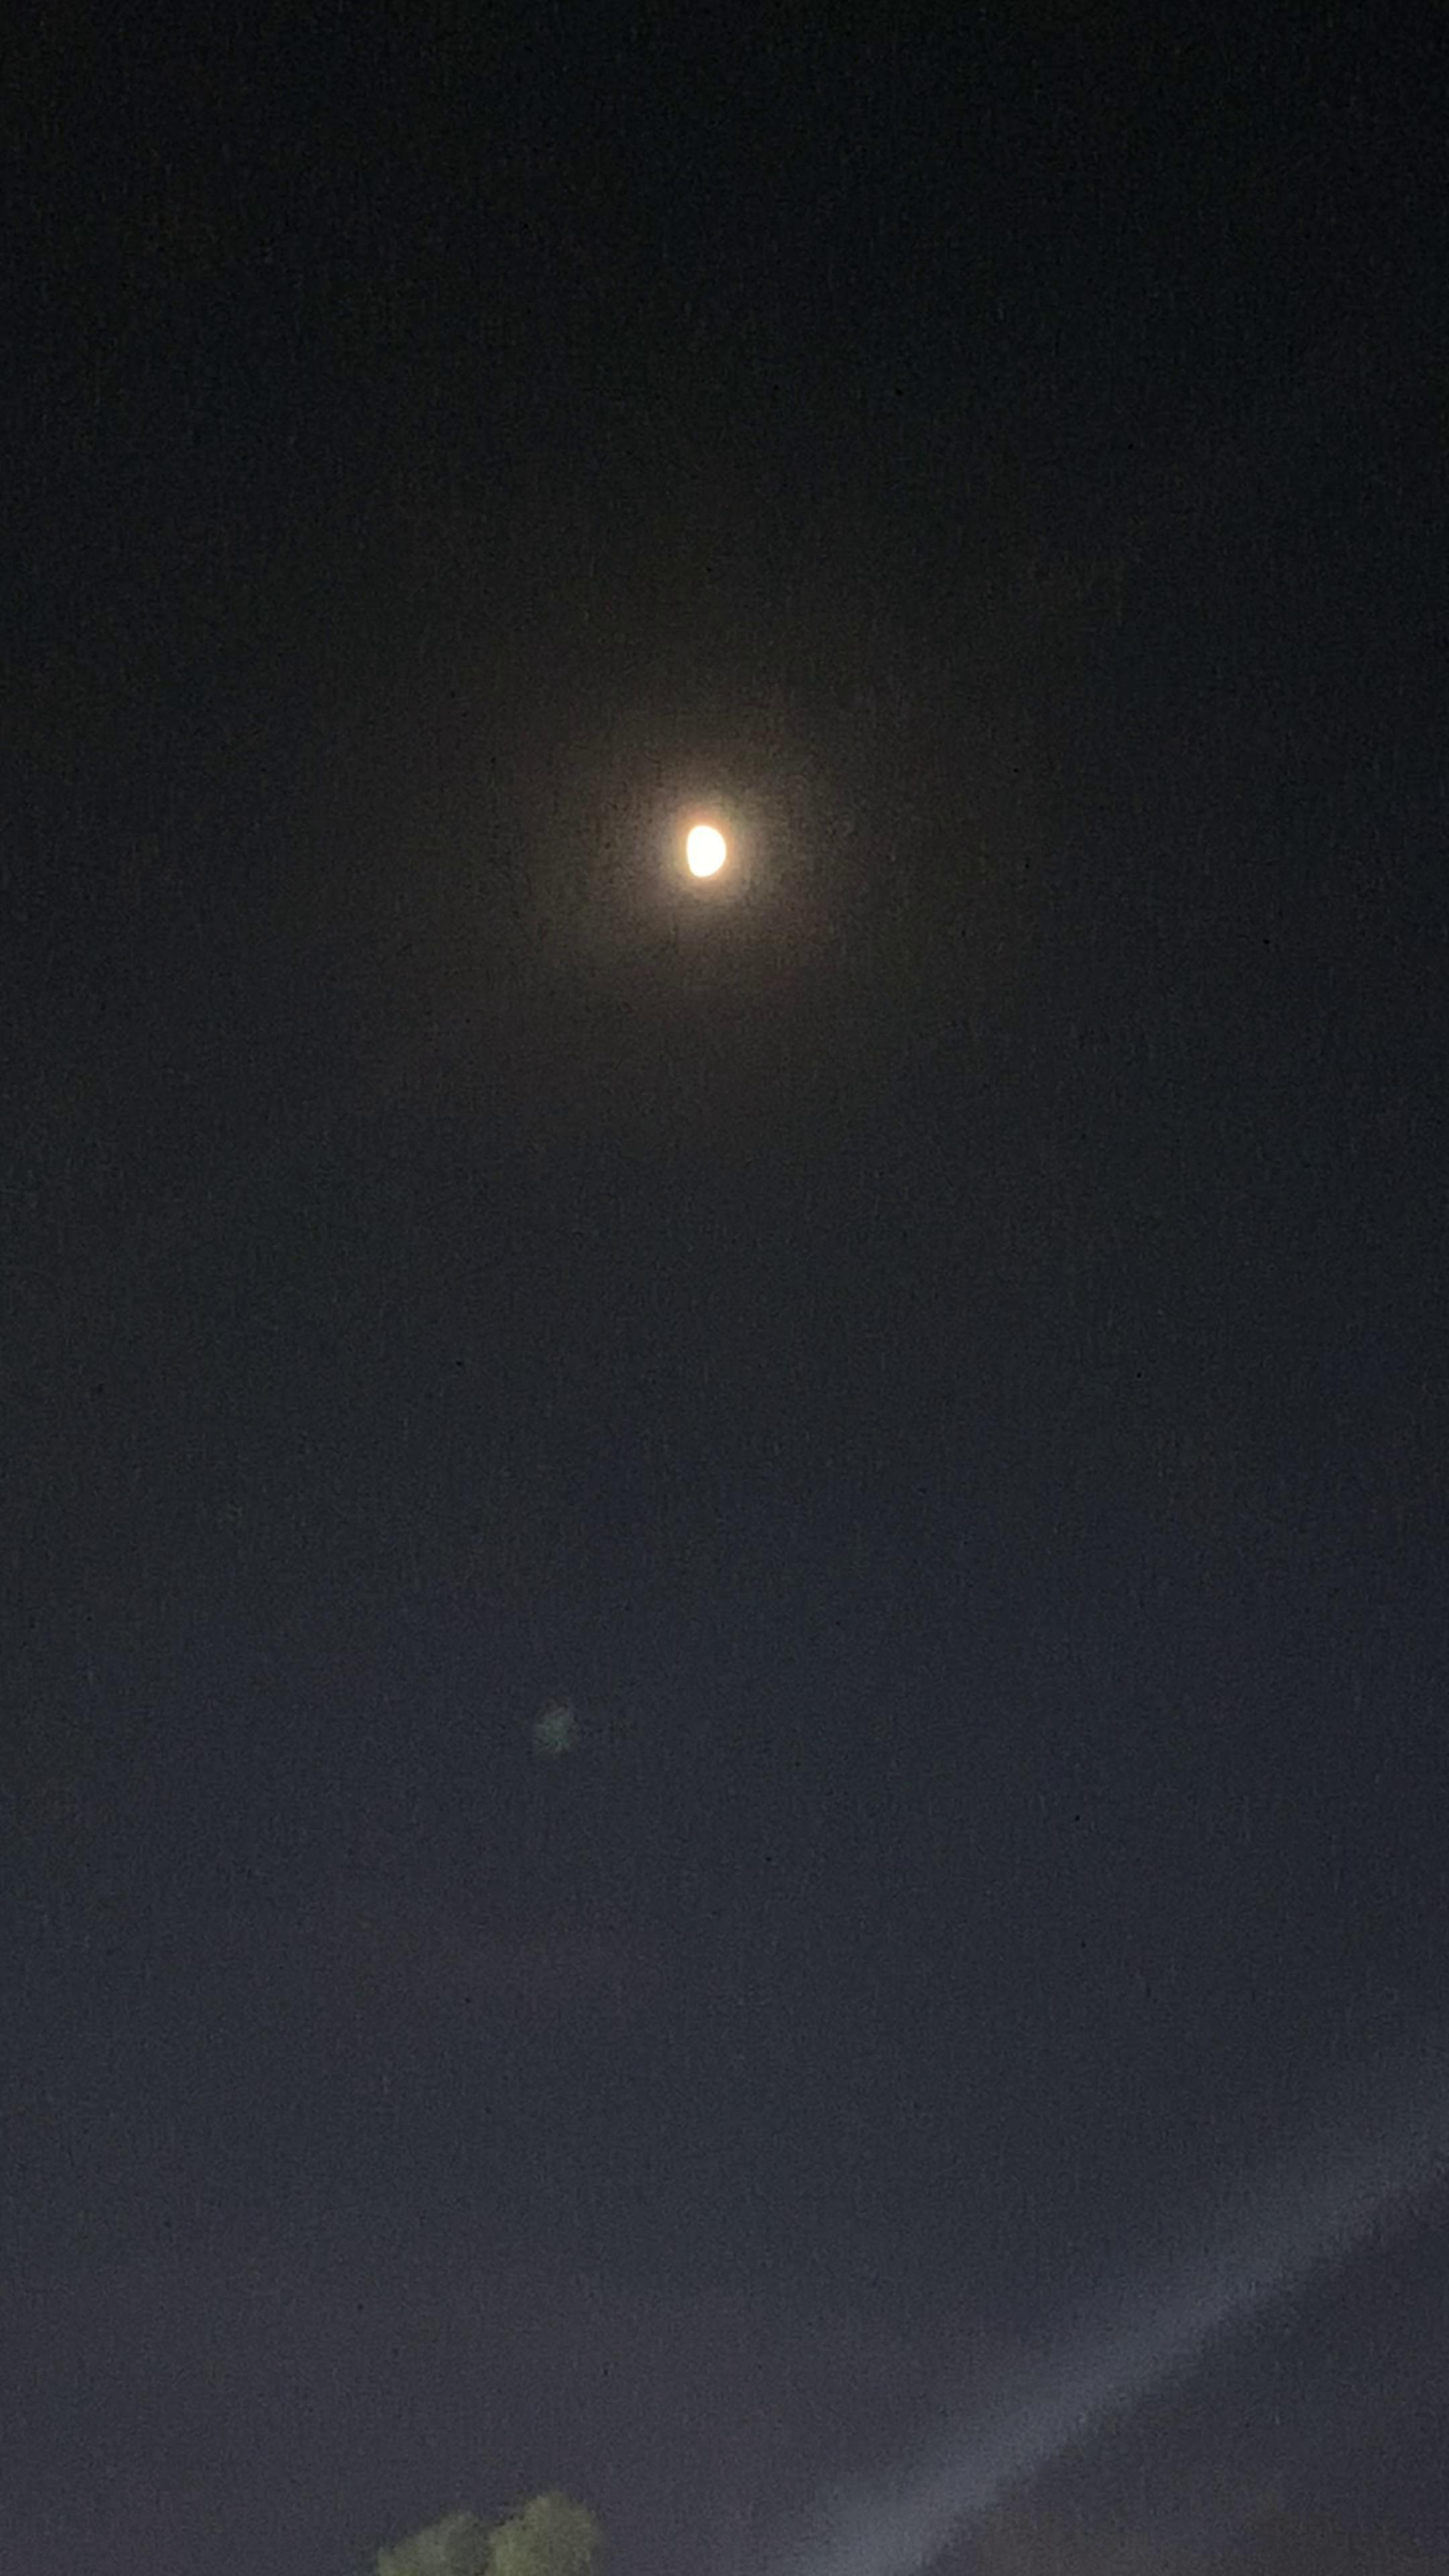moon: (674, 794, 791, 922)
